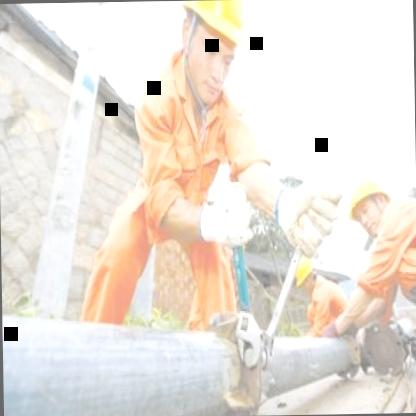helmet: (169, 0, 258, 116), (341, 168, 396, 240), (288, 252, 322, 292)
